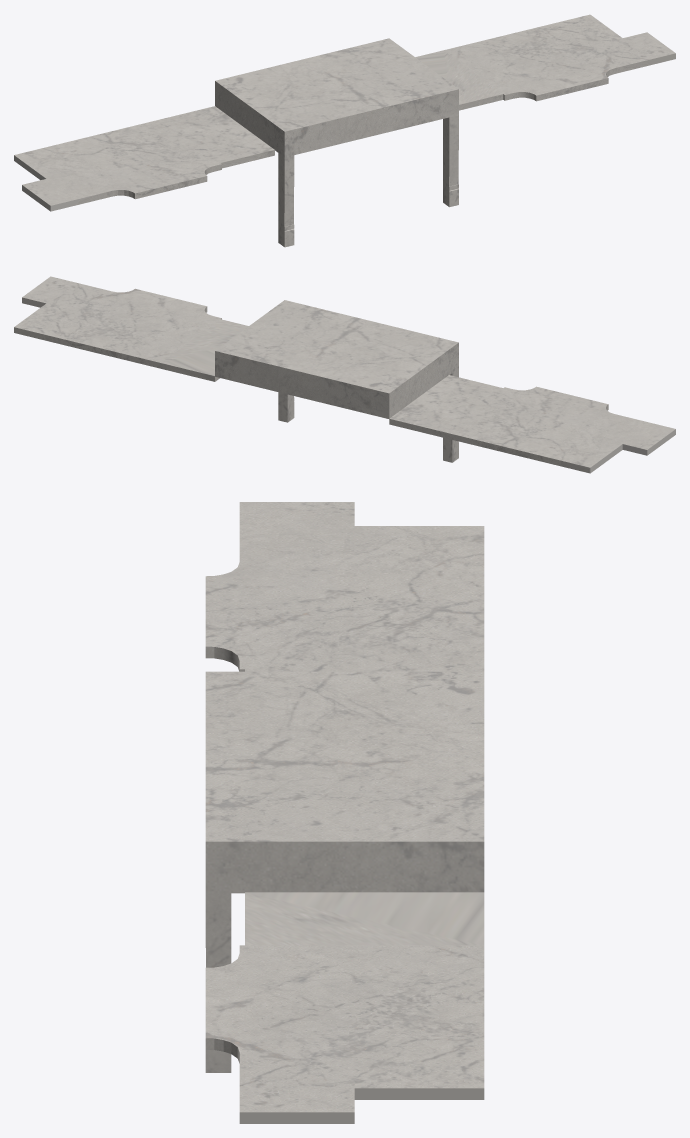
The model's file is floor2.fbx.
The picture shows the model from 3 angles, top to bottom: view 1: azimuth 30°, elevation 25°; view 2: azimuth 150°, elevation 25°; view 3: azimuth 270°, elevation 25°; orthographic projection. The views are drawn at different scales.
Visible parts, largest first — view 1: floor2_re1; view 2: floor2_re1; view 3: floor2_re1.
Boxes of the visible parts, x1,y1,x2,y2 form: floor2_re1: (14,14,675,247); floor2_re1: (14,276,675,473); floor2_re1: (205,502,484,1123).
Size of the model in its own units: 55.8 by 9.87 by 10.77.
1 material, 1 textured.
